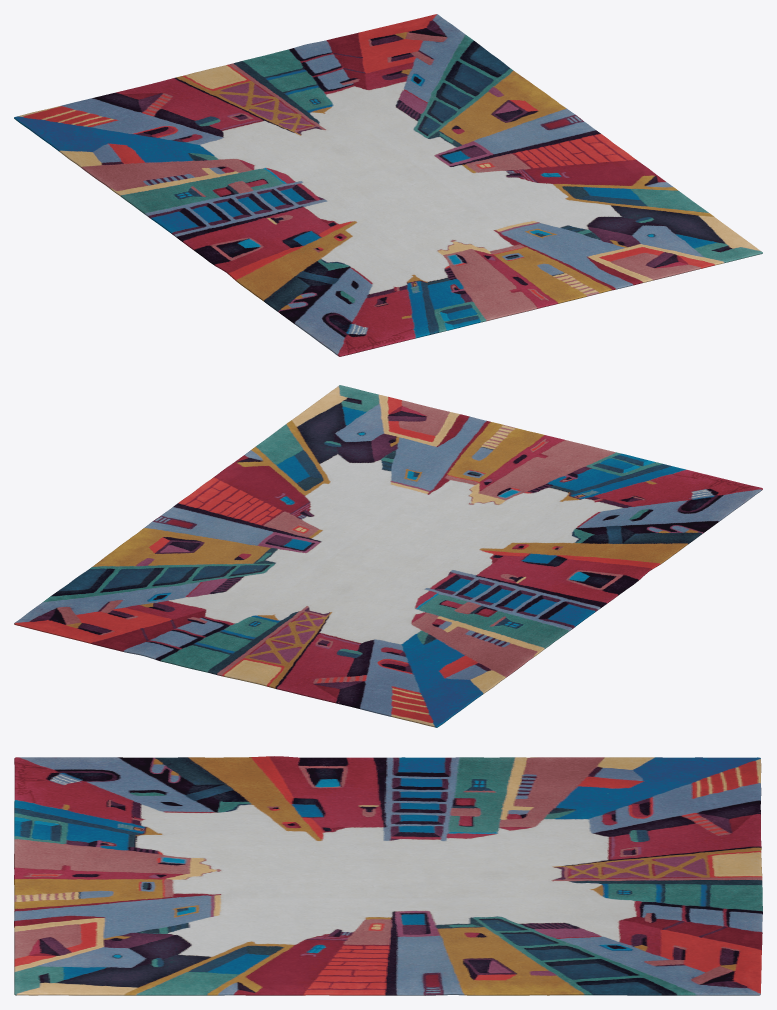
Rendered from eudoxia.gltf.
3 views of the same model, one above another, from view 1: azimuth 30°, elevation 25°; view 2: azimuth 150°, elevation 25°; view 3: azimuth 270°, elevation 25° (orthographic). The views are drawn at different scales.
Visible parts, largest first — view 1: zenobia; view 2: zenobia; view 3: zenobia.
Part boxes in pixels (x1=…): zenobia: x1=14, y1=14, x2=762, y2=356; zenobia: x1=14, y1=385, x2=762, y2=727; zenobia: x1=14, y1=756, x2=762, y2=995.
Size of the model in its own units: 1.8 by 0.014 by 2.4.
Materials: 1 (1 with a texture image).
